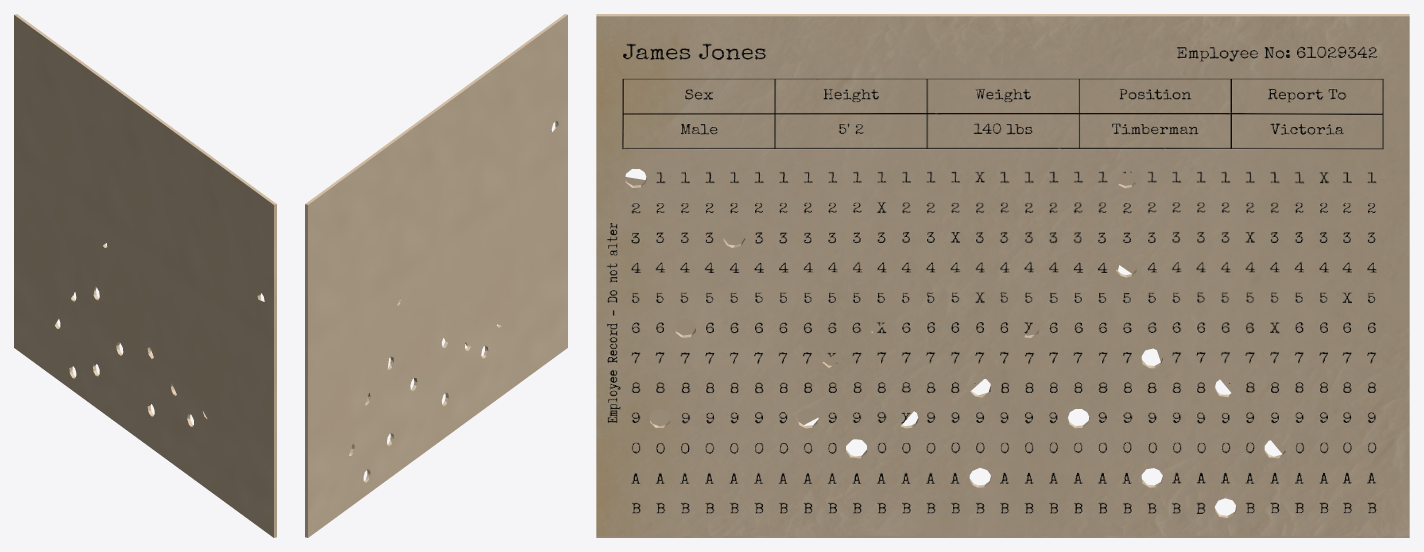
File: employeeCard05Aadi.fbx
3 views of the same model, side by side, from view 1: azimuth 30°, elevation 25°; view 2: azimuth 150°, elevation 25°; view 3: azimuth 270°, elevation 25° (orthographic). The views are drawn at different scales.
Parts seen in each view (by area): view 1: Employee 05 Card Puzzle Punched; view 2: Employee 05 Card Puzzle Punched; view 3: Employee 05 Card Puzzle Punched.
Part boxes in pixels (<box>): Employee 05 Card Puzzle Punched: <box>14,14,276,537</box>; Employee 05 Card Puzzle Punched: <box>305,14,567,537</box>; Employee 05 Card Puzzle Punched: <box>596,14,1409,537</box>.
Size of the model in its own units: 0.9779 by 100 by 141.
Materials: 1 (1 with a texture image).
